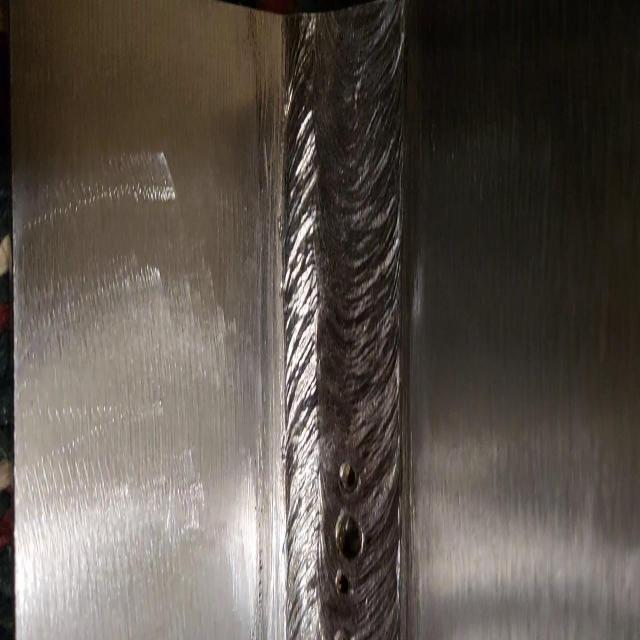Welding Line: (288, 25, 396, 640)
Workpiece: (10, 4, 638, 640)
porosity: (337, 459, 359, 497)
